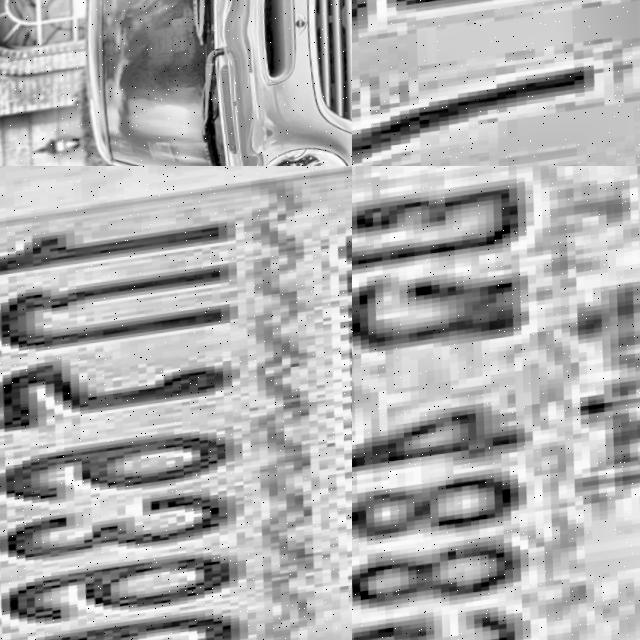license-plate: (0, 166, 352, 640), (352, 166, 640, 640), (352, 0, 640, 166)
